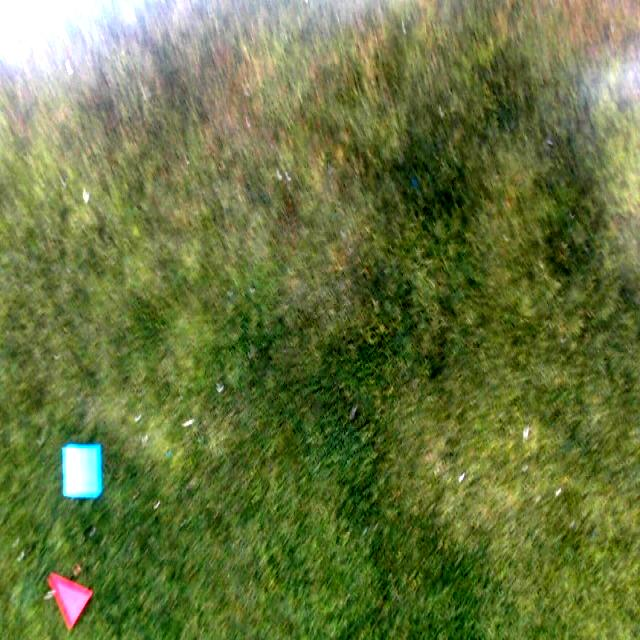blue_square: (62, 446, 102, 496)
red_triangle: (51, 572, 90, 630)
